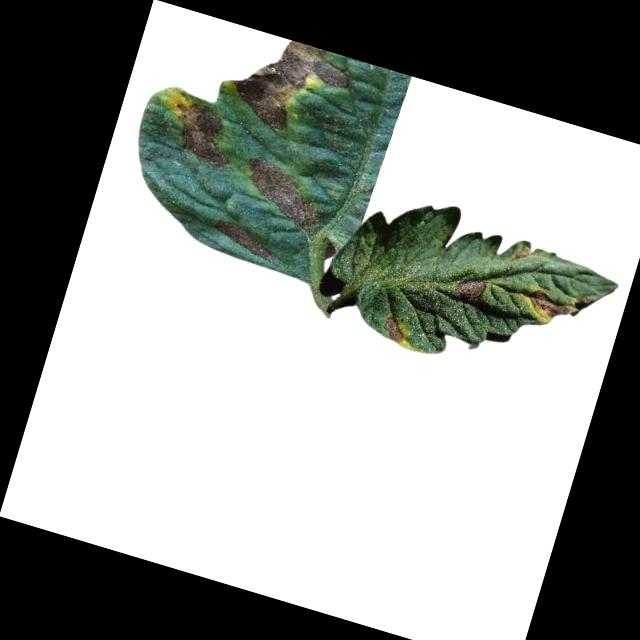Early_blight: (221, 27, 358, 146), (231, 149, 332, 233), (159, 94, 242, 171), (208, 216, 278, 266), (522, 283, 572, 327), (447, 270, 488, 303), (378, 313, 412, 344), (509, 240, 537, 265)
